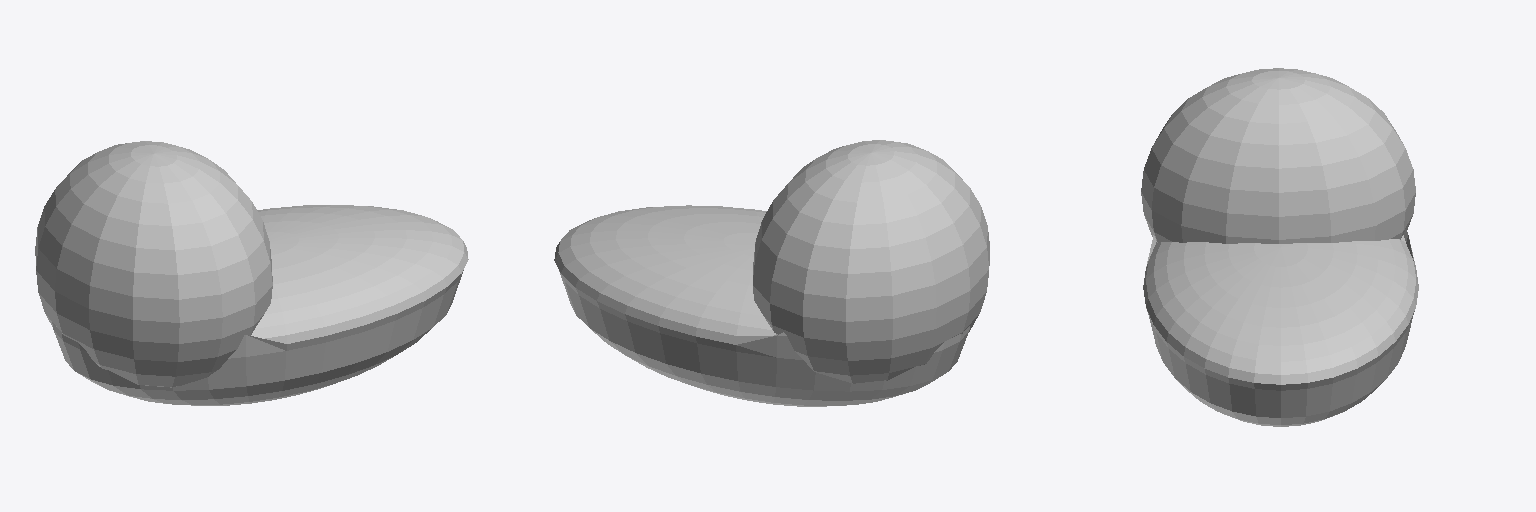
File: rag.obj
3 views of the same model, side by side, from view 1: azimuth 30°, elevation 25°; view 2: azimuth 150°, elevation 25°; view 3: azimuth 270°, elevation 25° (orthographic).
Visible parts, largest first — view 1: Rag_Sphere.002; view 2: Rag_Sphere.002; view 3: Rag_Sphere.002.
Boxes of the visible parts, box(x1,y1,x2,y2) form: Rag_Sphere.002: box(35, 141, 468, 405); Rag_Sphere.002: box(554, 140, 989, 406); Rag_Sphere.002: box(1141, 68, 1418, 426).
Bounding box in the file's own units: 1.87 × 1.13 × 1.11.